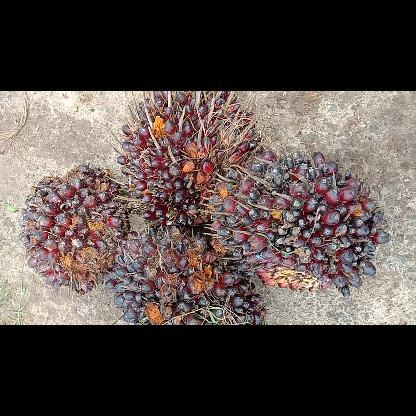Kurang masak: (202, 146, 394, 300), (112, 90, 268, 228), (104, 220, 270, 324), (17, 161, 132, 299)
